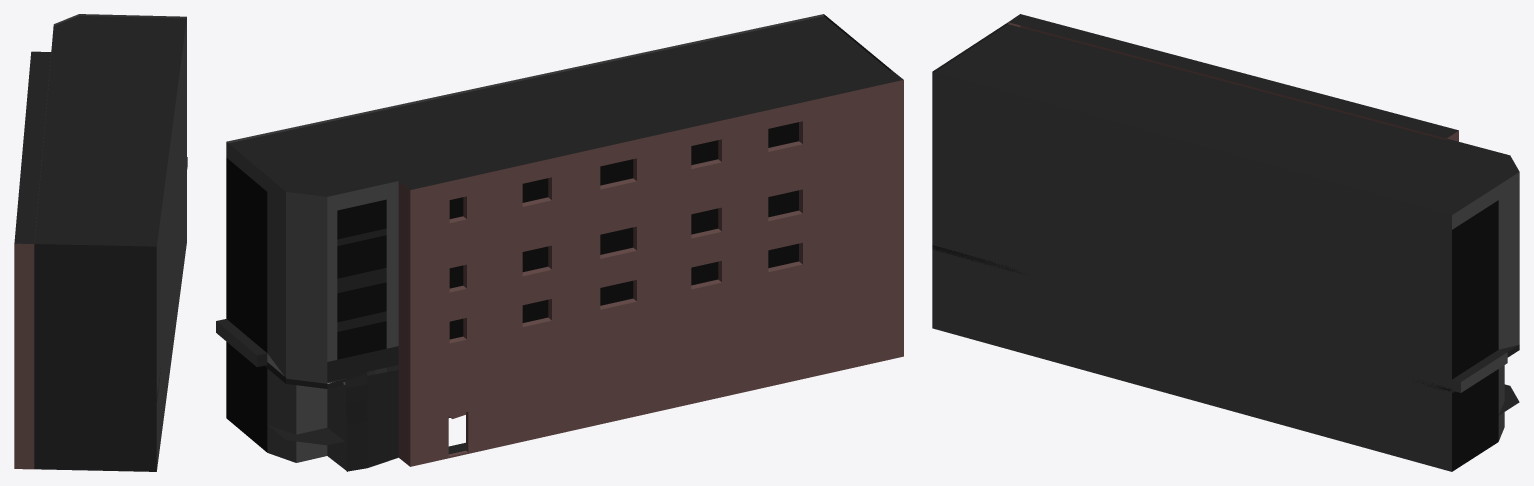
File: Pearl Works.fbx
3 renders of one model, left to right at view 1: azimuth 30°, elevation 25°; view 2: azimuth 150°, elevation 25°; view 3: azimuth 270°, elevation 25°, orthographic. The views are drawn at different scales.
Parts seen in each view (by area): view 1: Pearl Works; view 2: Pearl Works; view 3: Pearl Works.
Part boxes in pixels (x1,y1,x2,y2): Pearl Works: (14, 14, 187, 471); Pearl Works: (216, 14, 903, 471); Pearl Works: (932, 14, 1519, 471).
Bounding box in the file's own units: 2756 × 1619 × 3357.
